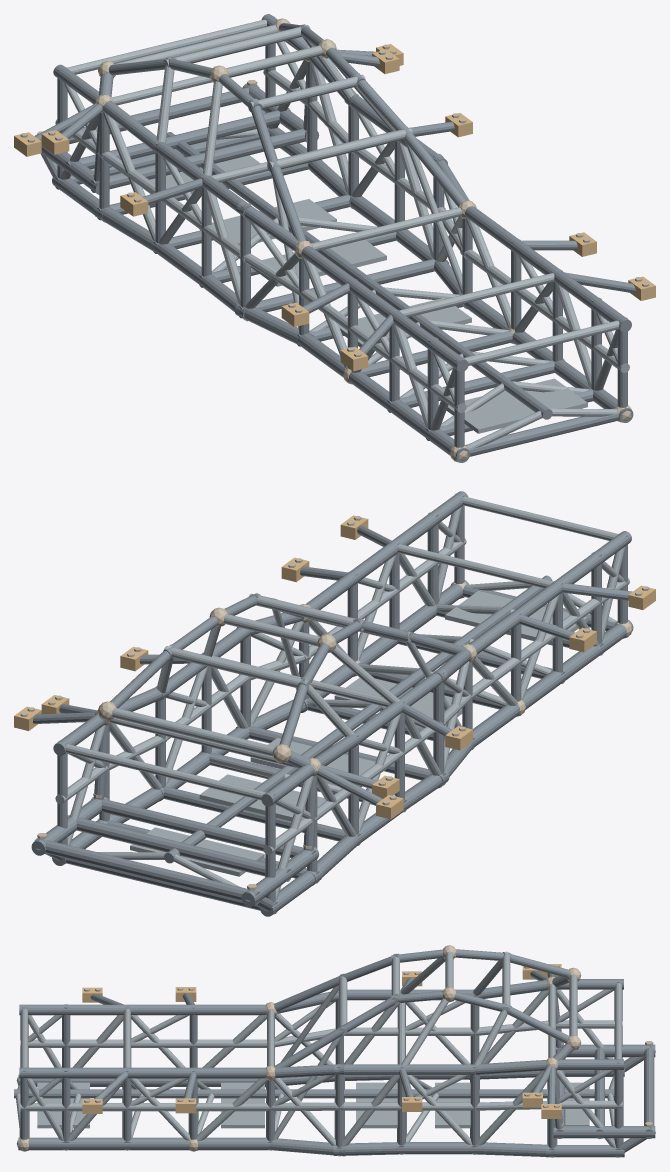
The model's file is FORGE_V18_02_WideDeep_Chassis.glb.
The picture shows the model from 3 angles, top to bottom: view 1: azimuth 30°, elevation 25°; view 2: azimuth 150°, elevation 25°; view 3: azimuth 270°, elevation 25°; orthographic projection. The views are drawn at different scales.
Visible parts, largest first — view 1: REMOVABLE_BELLY_PAN_0, ENGINE_CROSSBAR_0, ENGINE_CROSSBAR_1, FLOOR_CROSSMEMBER_00, UPPER_CROSSBRACE_09, UPPER_CROSSBRACE_00, UPPER_CROSSBRACE_02, COCKPIT_HOOP_TOP_A, UPPER_CROSSBRACE_04, FLOOR_CROSSMEMBER_05, COCKPIT_HOOP_TOP_R3, ENGINE_CROSSBAR_2 (+71 smaller); view 2: ENGINE_CROSSBAR_2, ENGINE_CROSSBAR_1, ENGINE_CROSSBAR_0, UPPER_CROSSBRACE_09, COCKPIT_HOOP_TOP_R4, REMOVABLE_BELLY_PAN_0, UPPER_CROSSBRACE_02, REMOVABLE_BELLY_PAN_3, UPPER_CROSSBRACE_00, FLOOR_CROSSMEMBER_07, REMOVABLE_BELLY_PAN_4, COCKPIT_HOOP_TOP_R3 (+61 smaller); view 3: REMOVABLE_BELLY_PAN_1, REMOVABLE_BELLY_PAN_2, LOWER_LONGERON_STBD_03, LOWER_LONGERON_STBD_07, LOWER_LONGERON_STBD_06, REMOVABLE_BELLY_PAN_3, LOWER_LONGERON_STBD_08, LOWER_LONGERON_STBD_04, LOWER_LONGERON_STBD_01, LOWER_LONGERON_STBD_02, UPPER_SILL_PORT_03, ENGINE_CROSSBAR_2 (+115 smaller).
Boxes of the visible parts, box(x1,y1,x2,y2) form: REMOVABLE_BELLY_PAN_0: box(446, 378, 587, 433); ENGINE_CROSSBAR_0: box(90, 128, 305, 192); ENGINE_CROSSBAR_1: box(65, 108, 290, 174); FLOOR_CROSSMEMBER_00: box(465, 408, 619, 456); UPPER_CROSSBRACE_09: box(67, 19, 266, 74); UPPER_CROSSBRACE_00: box(464, 320, 619, 365); UPPER_CROSSBRACE_02: box(399, 273, 554, 317); COCKPIT_HOOP_TOP_A: box(267, 127, 412, 171); UPPER_CROSSBRACE_04: box(311, 207, 462, 250); FLOOR_CROSSMEMBER_05: box(239, 259, 434, 318); COCKPIT_HOOP_TOP_R3: box(164, 25, 310, 67); ENGINE_CROSSBAR_2: box(69, 85, 259, 143); ENGINE_CROSSBAR_2: box(34, 838, 260, 904); ENGINE_CROSSBAR_1: box(67, 815, 290, 881); ENGINE_CROSSBAR_0: box(91, 797, 316, 863); UPPER_CROSSBRACE_09: box(66, 744, 265, 800); COCKPIT_HOOP_TOP_R4: box(112, 707, 275, 756); REMOVABLE_BELLY_PAN_0: box(445, 591, 587, 645); UPPER_CROSSBRACE_02: box(398, 544, 553, 588); REMOVABLE_BELLY_PAN_3: box(199, 774, 325, 821); UPPER_CROSSBRACE_00: box(463, 496, 617, 540); FLOOR_CROSSMEMBER_07: box(164, 786, 360, 845); REMOVABLE_BELLY_PAN_4: box(130, 827, 264, 876); COCKPIT_HOOP_TOP_R3: box(164, 646, 310, 687); REMOVABLE_BELLY_PAN_1: box(221, 1082, 264, 1128); REMOVABLE_BELLY_PAN_2: box(356, 1082, 397, 1128); LOWER_LONGERON_STBD_03: box(187, 1137, 270, 1150); LOWER_LONGERON_STBD_07: box(474, 1142, 558, 1157); LOWER_LONGERON_STBD_06: box(395, 1142, 474, 1154); REMOVABLE_BELLY_PAN_3: box(435, 1082, 470, 1128); LOWER_LONGERON_STBD_08: box(546, 1145, 624, 1157); LOWER_LONGERON_STBD_04: box(265, 1137, 345, 1156); LOWER_LONGERON_STBD_01: box(60, 1137, 133, 1150); LOWER_LONGERON_STBD_02: box(121, 1137, 199, 1150); UPPER_SILL_PORT_03: box(188, 1004, 265, 1015); ENGINE_CROSSBAR_2: box(644, 1047, 654, 1138).
Size of the model in its own units: 4.06 by 1.98 by 7.55.
